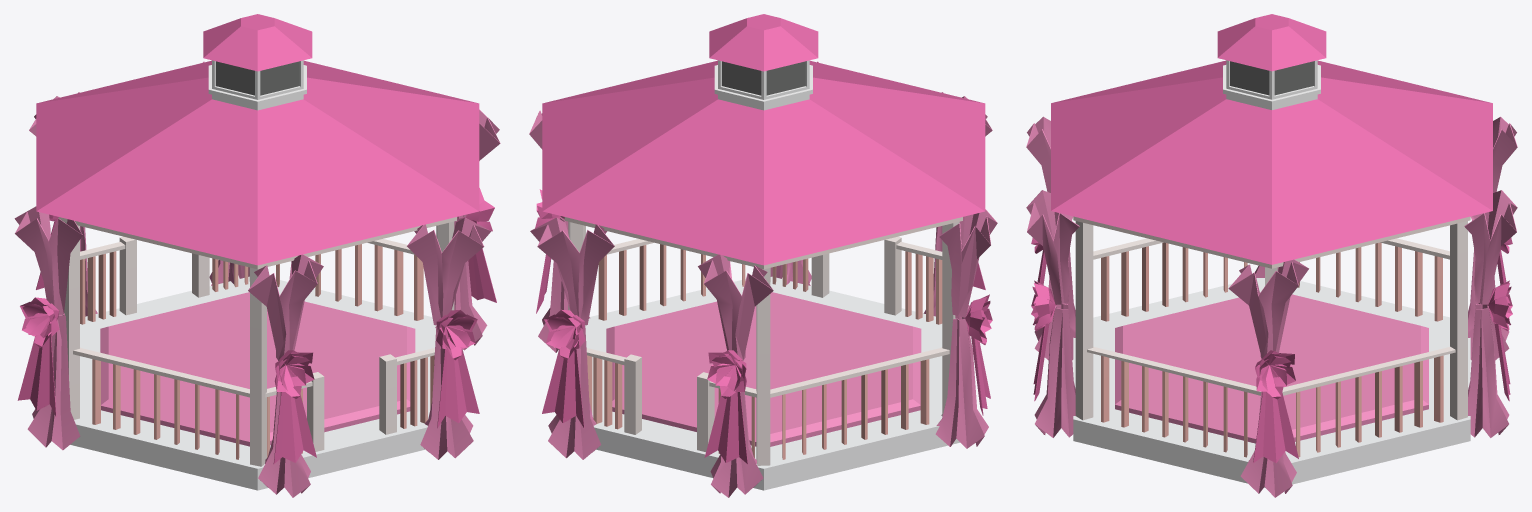
File: wedding_gazebo.fbx
3 views of the same model, side by side, from view 1: azimuth 30°, elevation 25°; view 2: azimuth 150°, elevation 25°; view 3: azimuth 270°, elevation 25° (orthographic).
Visible parts, largest first — view 1: gazebo_base, cloth, flowercl; view 2: gazebo_base, cloth, flowercl; view 3: gazebo_base, cloth, flowercl.
Part boxes in pixels (left/top/right/bottom): gazebo_base: left=36, top=14, right=479, bottom=490; cloth: left=14, top=61, right=500, bottom=497; flowercl: left=17, top=188, right=496, bottom=463; gazebo_base: left=542, top=14, right=985, bottom=490; cloth: left=529, top=61, right=997, bottom=497; flowercl: left=535, top=189, right=992, bottom=464; gazebo_base: left=1051, top=14, right=1492, bottom=487; cloth: left=1026, top=116, right=1517, bottom=497; flowercl: left=1031, top=238, right=1512, bottom=463.
Bounding box in the file's own units: 61.83 × 47.08 × 56.07.
